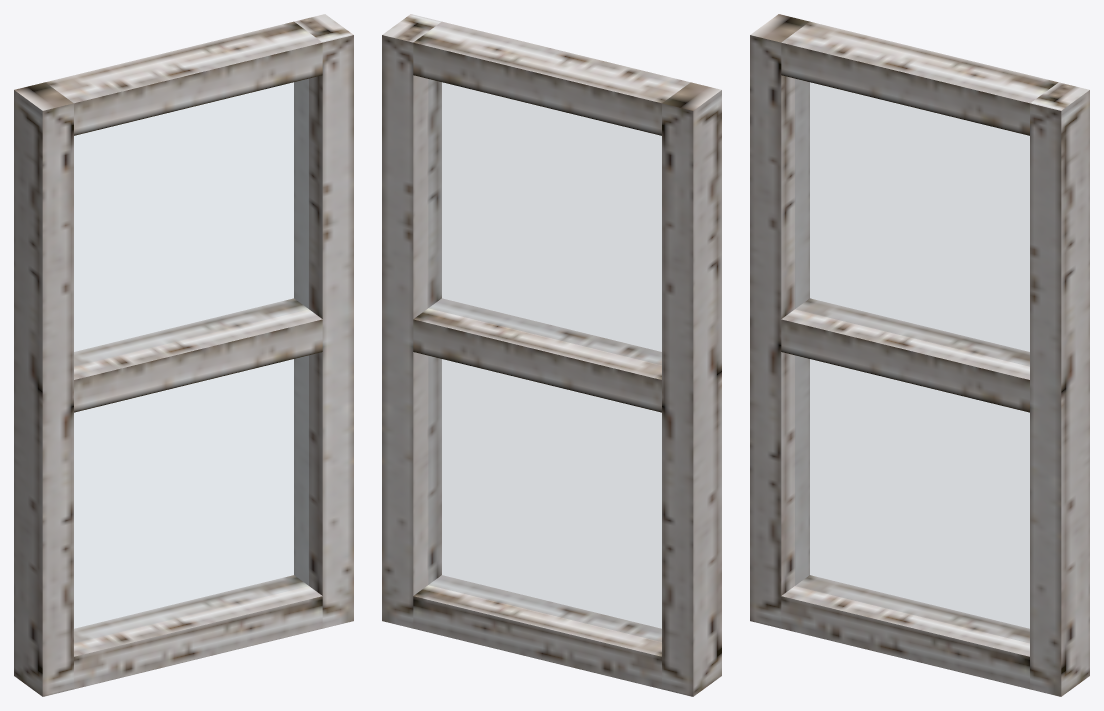
File: Insert_Window_02_W1000_H2800_ModelGravel.fbx
3 views of the same model, side by side, from view 1: azimuth 30°, elevation 25°; view 2: azimuth 150°, elevation 25°; view 3: azimuth 330°, elevation 25° (orthographic).
Parts seen in each view (by area): view 1: Body; view 2: Body; view 3: Body.
Boxes of the visible parts, bbox=[...] form: Body: bbox=[14, 14, 353, 696]; Body: bbox=[382, 14, 721, 696]; Body: bbox=[750, 14, 1089, 696].
Size of the model in its own units: 50 by 90 by 8.
